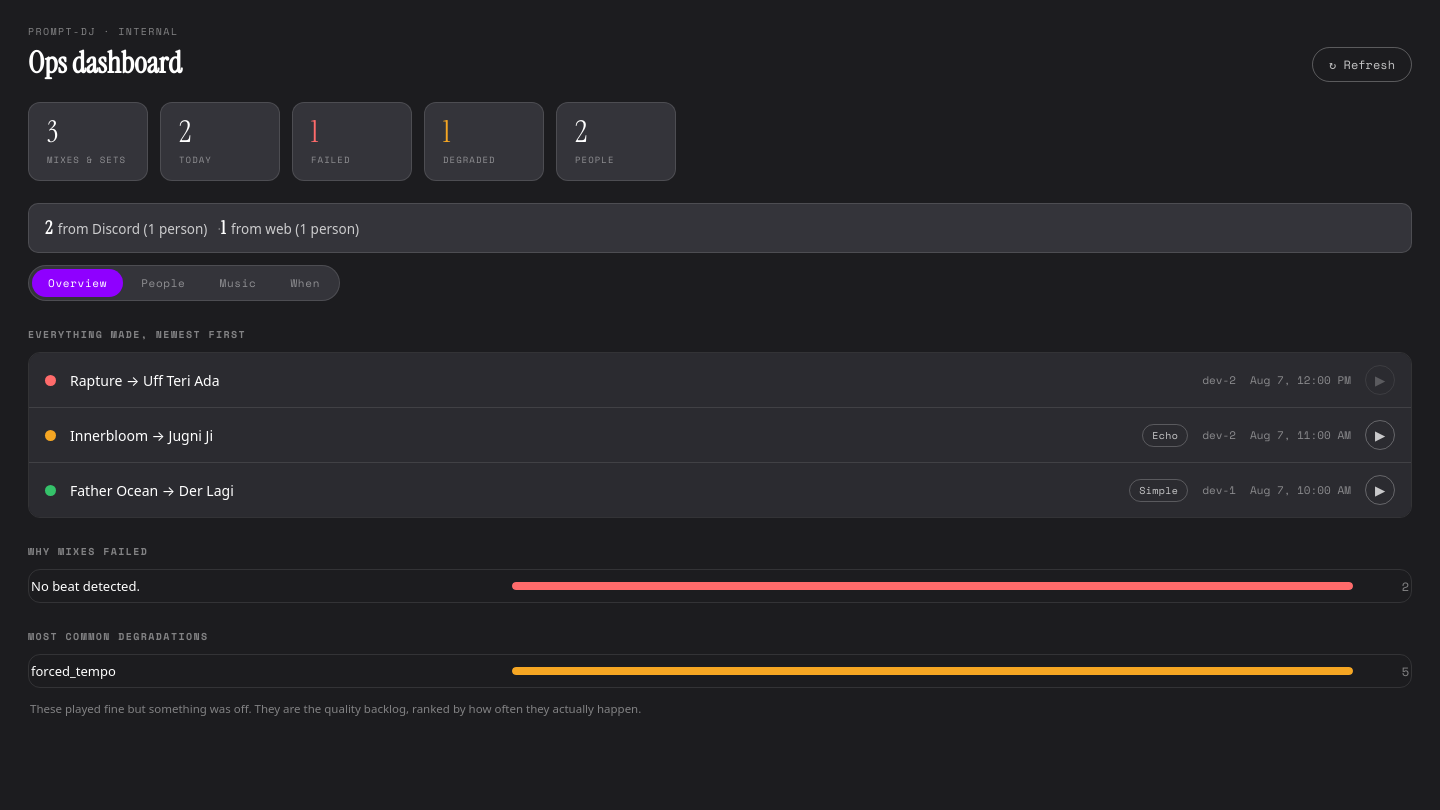
Test: expanding a failed row shows the plain-language failure reason
This screenshot has width=1440, height=810.
Click the button with test id "event-row" that starts with "Rapture → Uff Teri Ada": (145, 380) [45,370,1351,390]
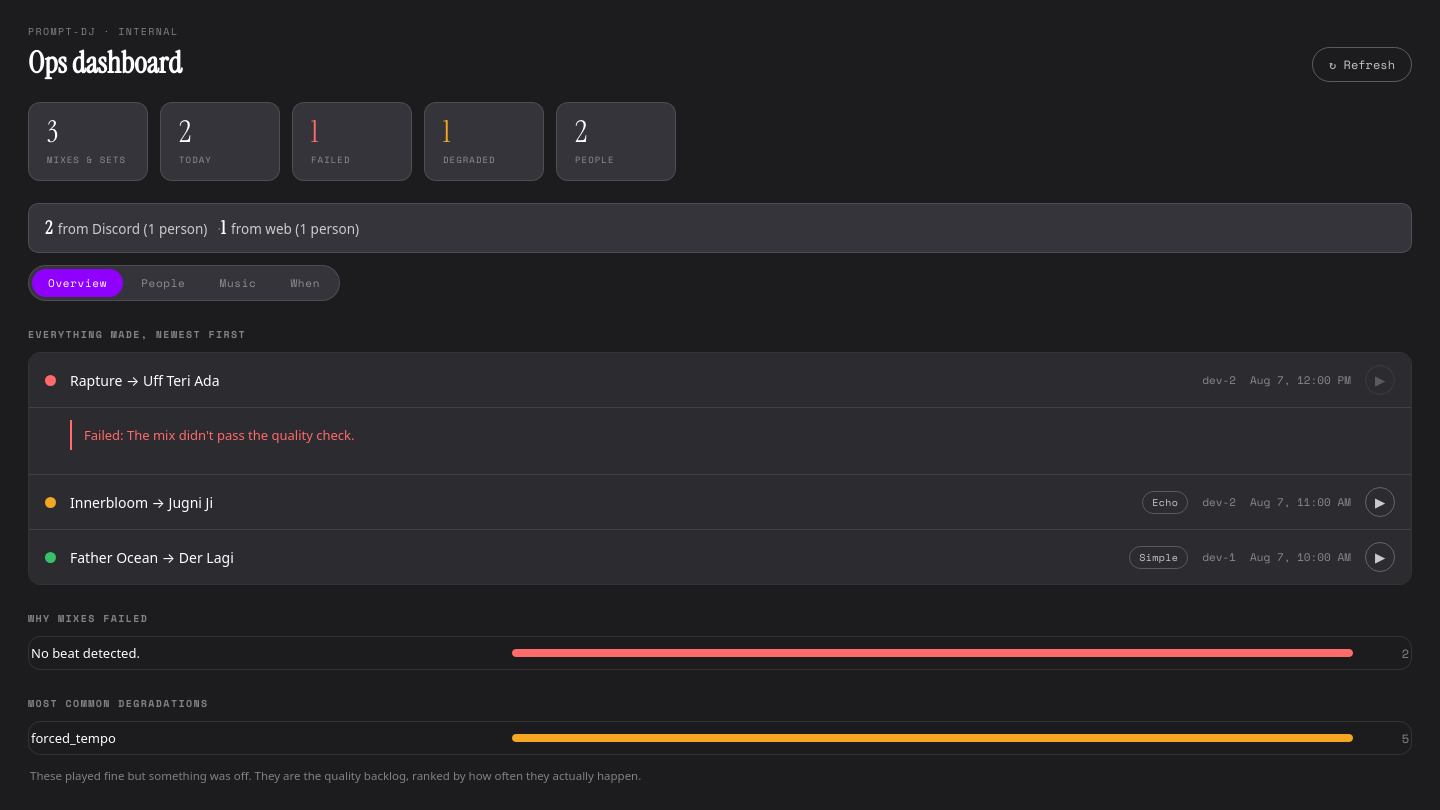
Check: the text "Failed: The mix didn't pass the quality check." is shown, box [70,420,1395,450]
